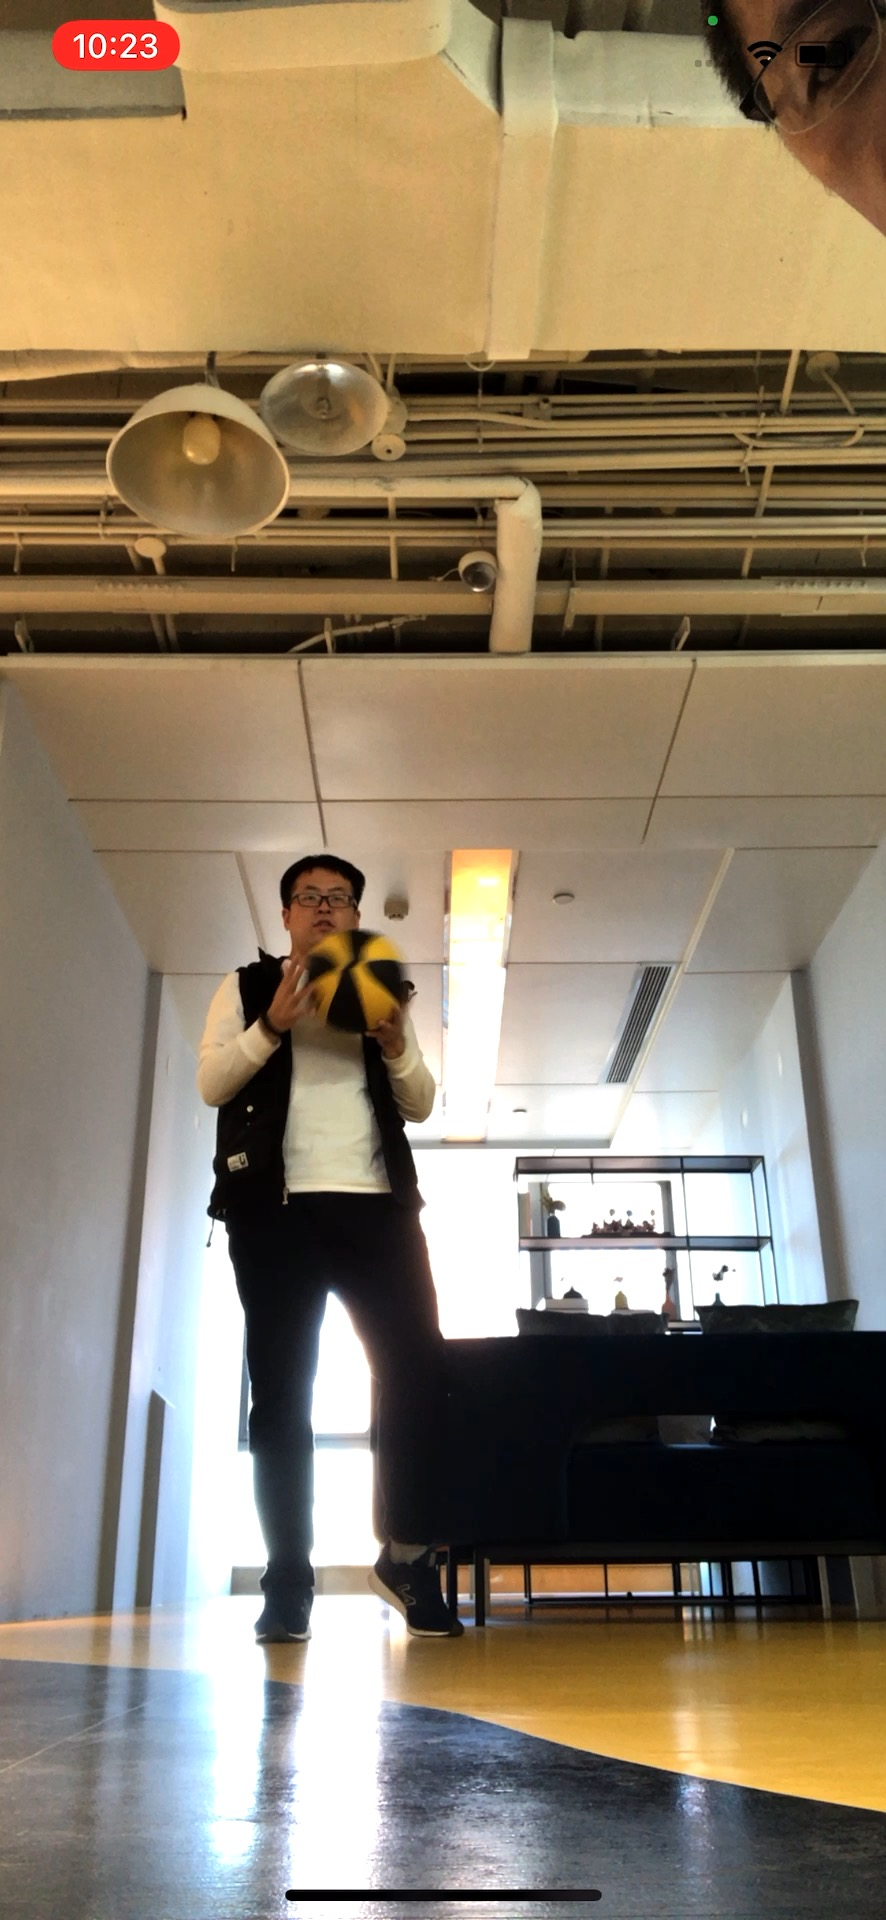ball: (306, 929, 408, 1033)
